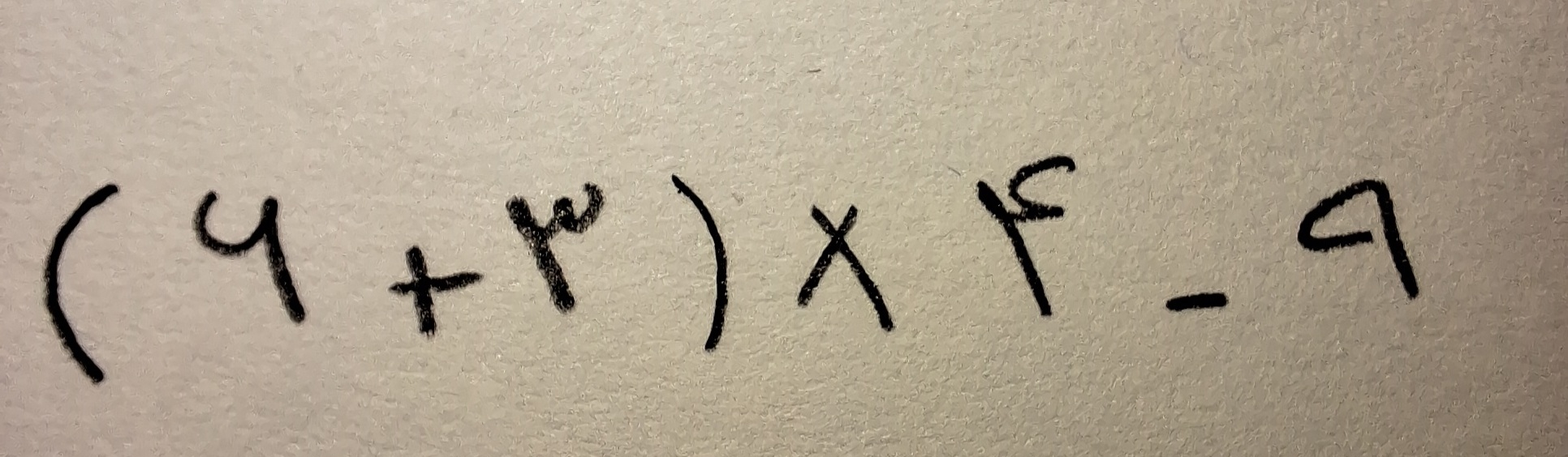character: (975, 155, 1076, 315), (45, 182, 119, 385), (1297, 179, 1420, 299), (194, 191, 307, 319), (797, 203, 896, 341), (507, 181, 605, 313), (674, 171, 728, 351), (392, 244, 484, 335), (1164, 293, 1230, 314)
